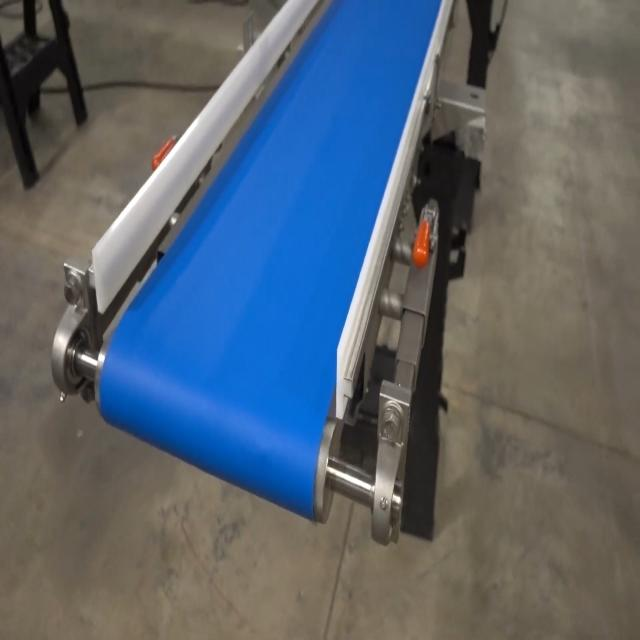Convoyeur: (43, 0, 456, 559)
